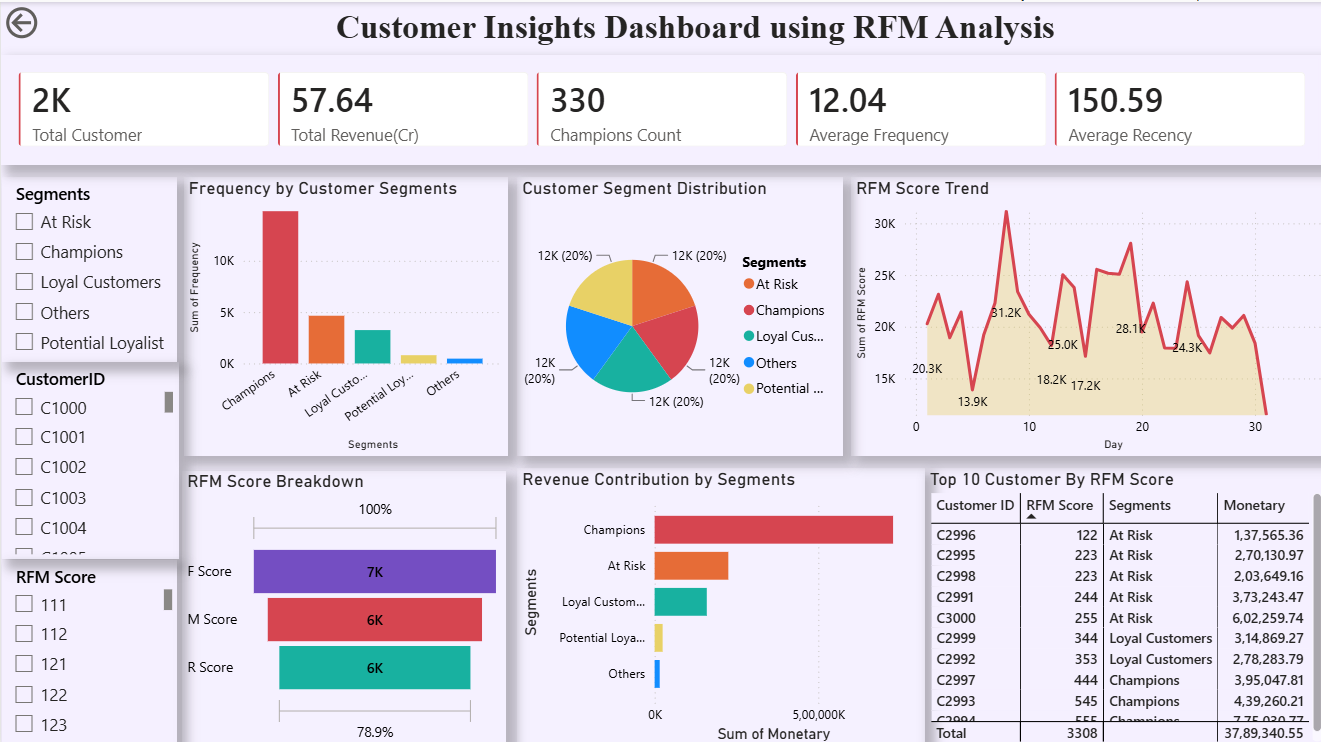

The dashboard page shown, as its layout file describes it:
{"tool":"powerbi","page":{"name":"Page 1","canvas":[1280,720],"ordinal":0},"visuals":[{"type":"pieChart","title":" Customer Segment Distribution","fields":{"Category":["Sheet2.Segments"],"Y":["CountNonNull(Table1.CustomerID)"]},"box":[498.1,168.8,314.2,269],"z":0},{"type":"barChart","title":"Revenue Contribution  by Segments","fields":{"Category":["Sheet2.Segments"],"Y":["Sum(Sheet2.Monetary)"]},"box":[497.8,450.6,393.9,269.8],"z":1000},{"type":"columnChart","title":" Frequency by Customer Segments","fields":{"Category":["Sheet2.Segments"],"Y":["Sum(Sheet2.Frequency)"]},"box":[175.6,168.8,312.9,269],"z":2000},{"type":"tableEx","title":"Top 10 Customer By RFM Score","fields":{"Values":["Sheet2.Row Labels","Sum(Sheet2.RFM Score)","Sheet2.Segments","Sum(Sheet2.Monetary)"]},"box":[891.7,450.6,388.5,269.8],"z":3000},{"type":"actionButton","box":[0,0,100,40],"z":4000},{"type":"cardVisual","fields":{"Data":["Sheet2.Total Customer","Sheet2.Total Revenue","Sheet2.Champions Count","Sheet2.Average Frequency","Sheet2.Average Recency"]},"box":[0,51.3,1280.3,106.6],"z":5000},{"type":"slicer","fields":{"Values":["Sheet2.Segments"]},"box":[1.4,168.8,168.8,178.4],"z":6000},{"type":"slicer","fields":{"Values":["Sheet2.RFM Score"]},"box":[1.4,537.9,168.8,182.5],"z":7000},{"type":"slicer","fields":{"Values":["Table1.CustomerID"]},"box":[1.4,347.2,170.2,190.7],"z":8000},{"type":"stackedAreaChart","title":"RFM Score Trend","fields":{"Category":["Sheet2.Last Purchase Date.Variation.Date Hierarchy.Day"],"Y":["Sum(Sheet2.RFM Score)"]},"box":[820.6,168.8,459.7,269],"z":9000},{"type":"funnel","title":"RFM Score Breakdown","fields":{"Y":["Sum(Sheet2.F Score)","Sum(Sheet2.M Score)","Sum(Sheet2.R Score)"]},"box":[175.4,451.9,313,268.5],"z":10000},{"type":"textbox","box":[60.3,0,1219.7,57.9],"z":11000}]}

Visuals, with their boxes in screenshot pixels (x1, y1, x2, y2), scaled from the page's 1280x720 canvas onto the 1321x742 screenshot:
" Customer Segment Distribution" pieChart: [left=514, top=174, right=838, bottom=451]
"Revenue Contribution  by Segments" barChart: [left=514, top=464, right=920, bottom=741]
" Frequency by Customer Segments" columnChart: [left=181, top=174, right=504, bottom=451]
"Top 10 Customer By RFM Score" tableEx: [left=920, top=464, right=1320, bottom=741]
actionButton: [left=0, top=0, right=103, bottom=41]
cardVisual - Sheet2.Total Customer x Sheet2.Total Revenue: [left=0, top=53, right=1320, bottom=163]
slicer - Sheet2.Segments: [left=1, top=174, right=176, bottom=358]
slicer - Sheet2.RFM Score: [left=1, top=554, right=176, bottom=741]
slicer - Table1.CustomerID: [left=1, top=358, right=177, bottom=554]
"RFM Score Trend" stackedAreaChart: [left=847, top=174, right=1320, bottom=451]
"RFM Score Breakdown" funnel: [left=181, top=466, right=504, bottom=741]
textbox: [left=62, top=0, right=1320, bottom=60]
